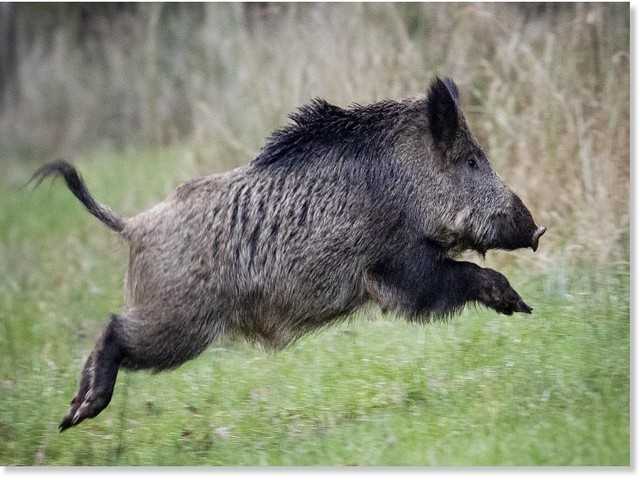Pig: (29, 73, 557, 421)
